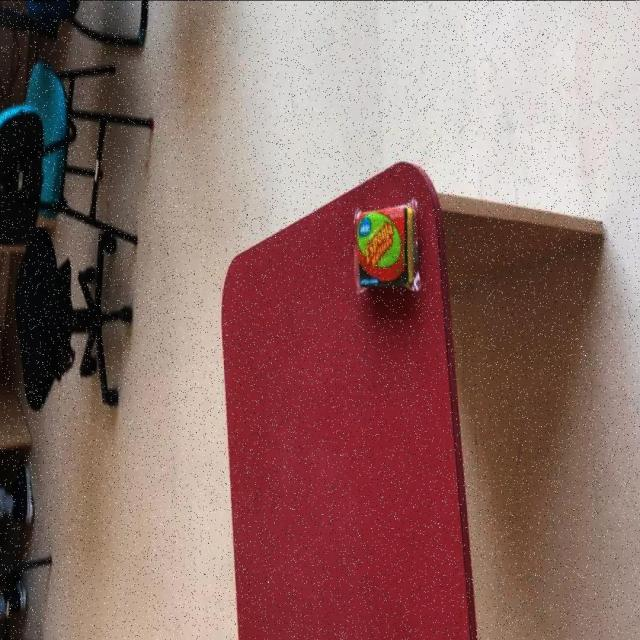Sponge: (352, 203, 420, 295)
